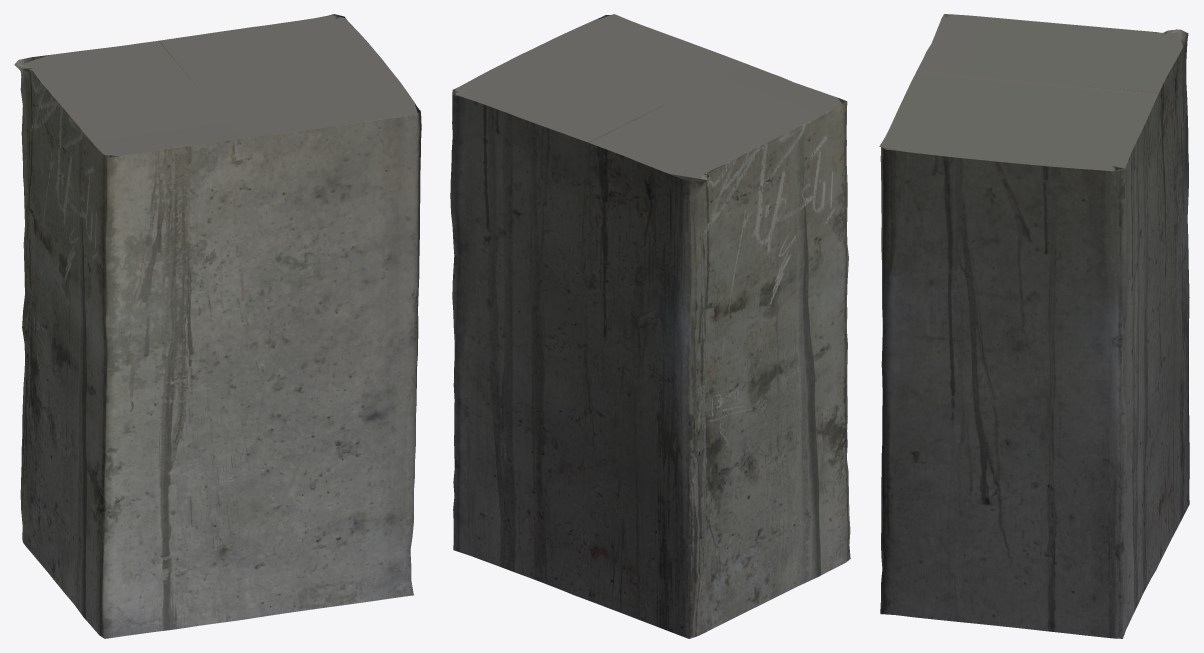
The model's file is column.glb.
3 renders of one model, left to right at view 1: azimuth 30°, elevation 25°; view 2: azimuth 150°, elevation 25°; view 3: azimuth 270°, elevation 25°, orthographic. The views are drawn at different scales.
Visible parts, largest first — view 1: Retopo_3DModel_mesh; view 2: Retopo_3DModel_mesh; view 3: Retopo_3DModel_mesh.
Part boxes in pixels (x1,y1,x2,y2): Retopo_3DModel_mesh: (14, 14, 421, 638); Retopo_3DModel_mesh: (450, 14, 850, 638); Retopo_3DModel_mesh: (879, 14, 1189, 638).
Bounding box in the file's own units: 0.7689 × 1.08 × 0.6418.
Materials: 1 (1 with a texture image).
